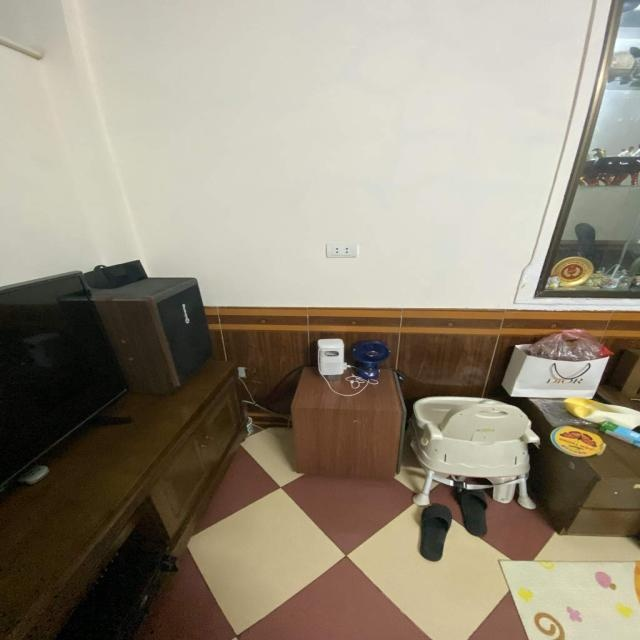outlet: (325, 242, 358, 258)
